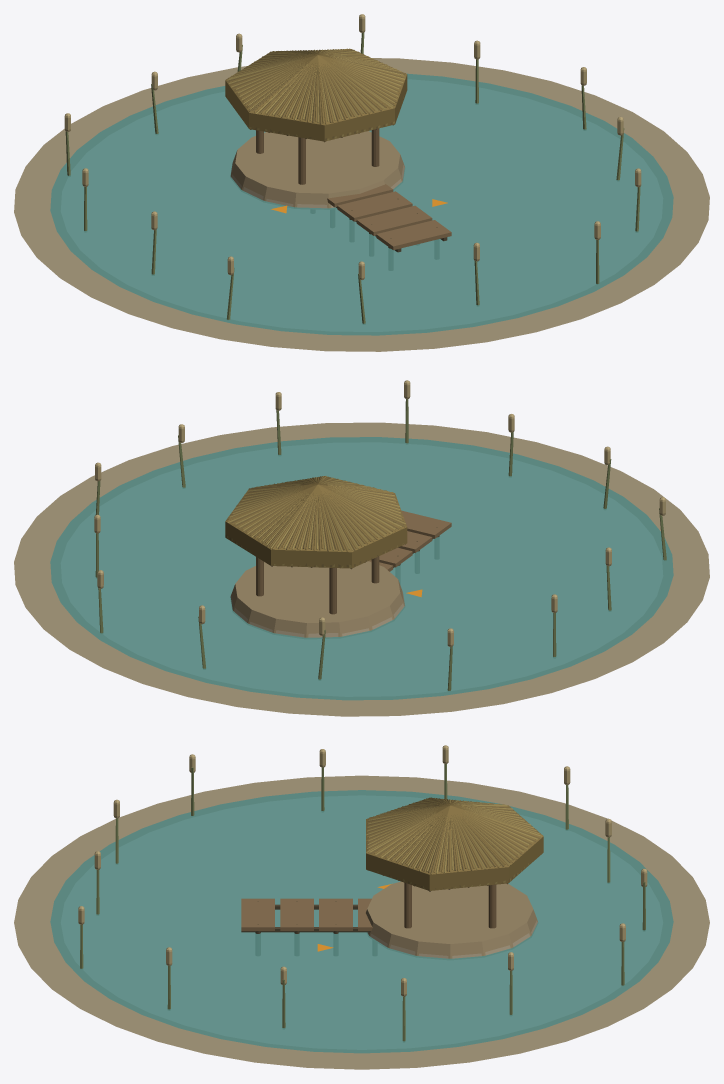
Rendered from water.glb.
3 views of the same model, one above another, from view 1: azimuth 30°, elevation 25°; view 2: azimuth 150°, elevation 25°; view 3: azimuth 270°, elevation 25° (orthographic).
Visible parts, largest first — view 1: water; view 2: water; view 3: water.
Part boxes in pixels (left/top/right/bottom): water: left=14, top=14, right=709, bottom=351; water: left=14, top=380, right=709, bottom=716; water: left=14, top=745, right=709, bottom=1069.
Bounding box in the file's own units: 14 × 3.08 × 14.
